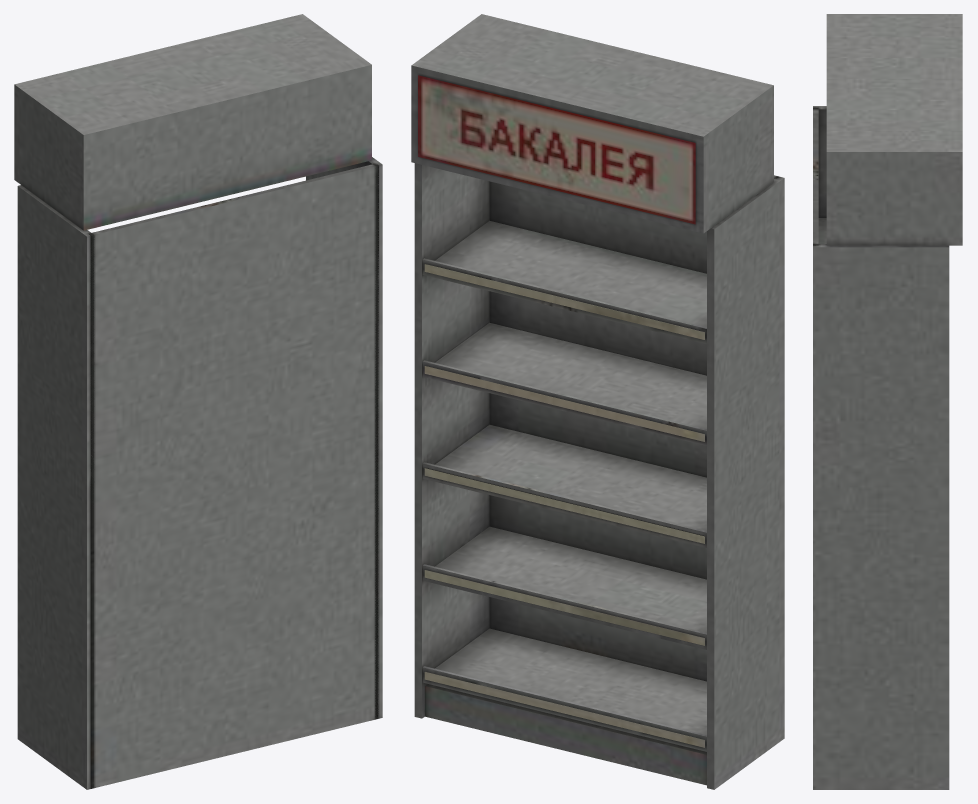
The model's file is wall_rack_bakaleya_lod1_web.glb.
The picture shows the model from 3 angles, left to right: view 1: azimuth 30°, elevation 25°; view 2: azimuth 150°, elevation 25°; view 3: azimuth 270°, elevation 25°; orthographic projection. The views are drawn at different scales.
Parts seen in each view (by area): view 1: WallRackBakaleya_Body; view 2: WallRackBakaleya_Body; view 3: WallRackBakaleya_Body.
Part boxes in pixels (x1,y1,x2,y2): WallRackBakaleya_Body: (14,14,382,789); WallRackBakaleya_Body: (411,14,784,789); WallRackBakaleya_Body: (813,14,962,789).
Bounding box in the file's own units: 1.23 × 2.58 × 0.554.
Materials: 1 (1 with a texture image).
